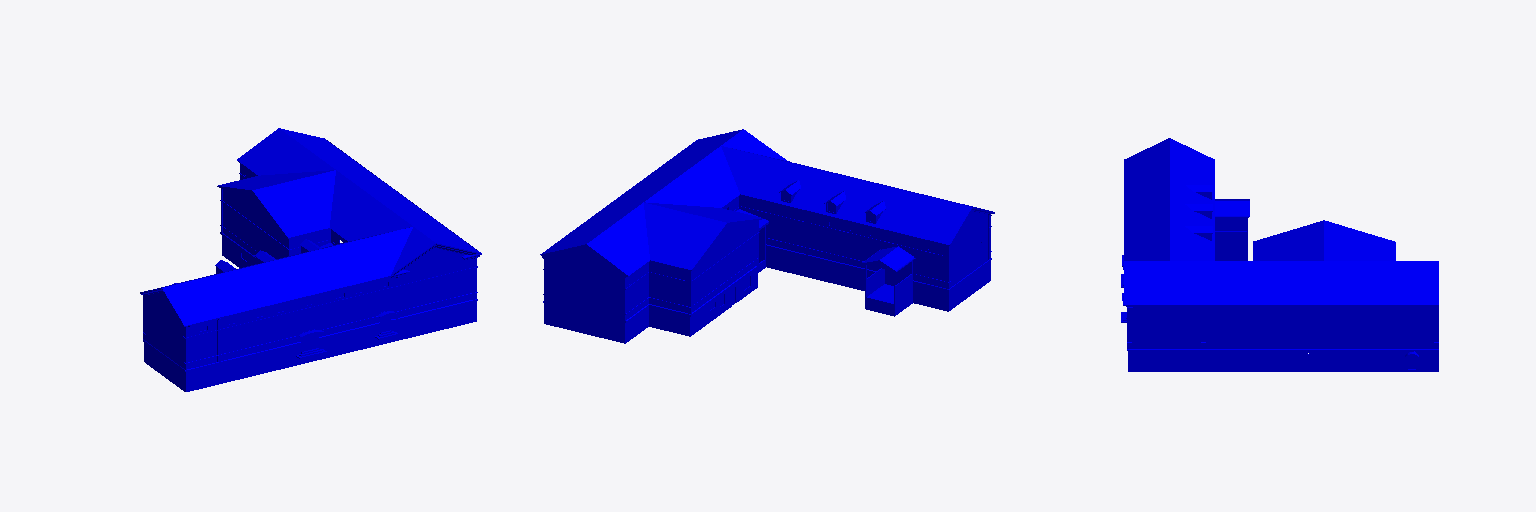
File: isokatu_17.obj
The picture shows the model from 3 angles: view 1: azimuth 30°, elevation 25°; view 2: azimuth 150°, elevation 25°; view 3: azimuth 270°, elevation 25°; orthographic projection.
Parts seen in each view (by area): view 1: Object_1; view 2: Object_1; view 3: Object_1.
Boxes of the visible parts, box(x1,y1,x2,y2) form: Object_1: box(140, 128, 481, 391); Object_1: box(540, 129, 994, 343); Object_1: box(1121, 138, 1438, 371).
Size of the model in its own units: 39.91 by 11.52 by 36.71.